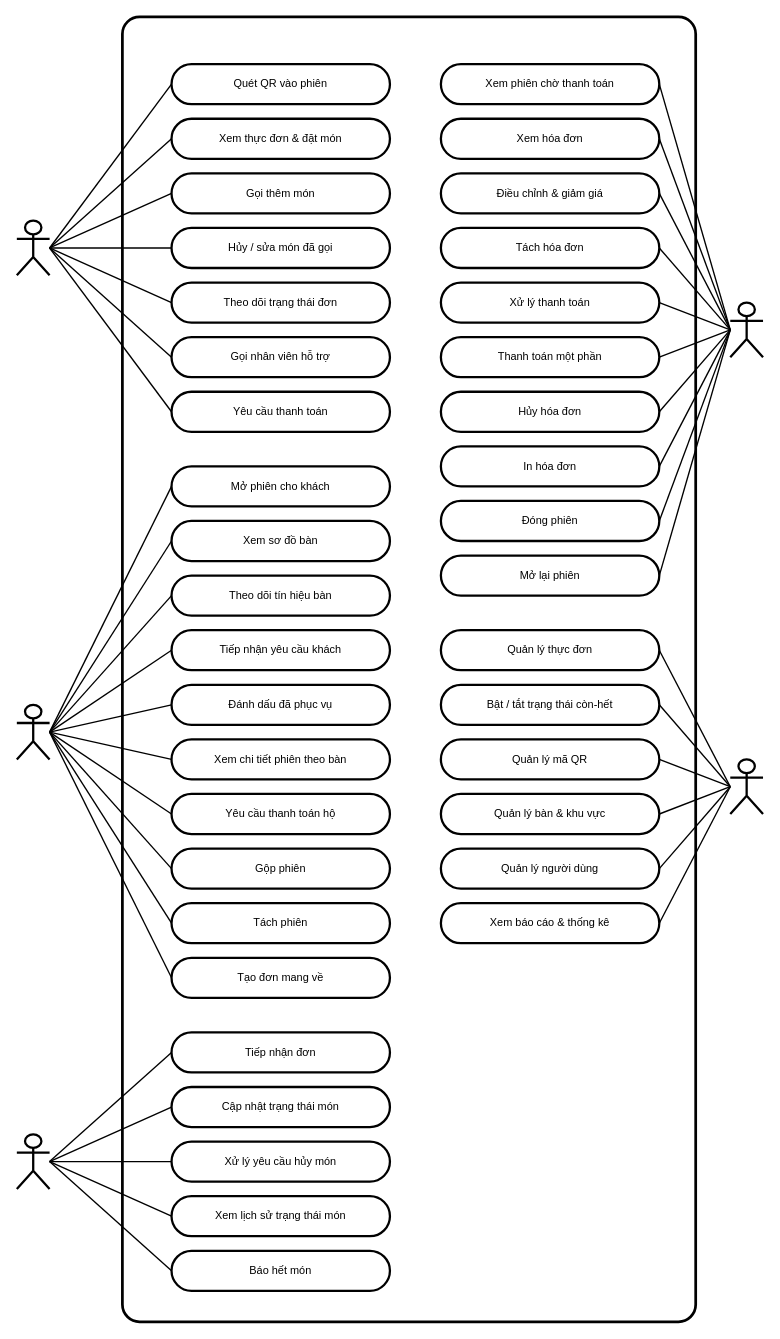
Image size: 780x1339. Some labels were removed from this diagram. The shapes that lost their labels are listed below. From the top down, each one's centre as x and y in pixels, then its label:
At (32,247): "Khách hàng".
At (746,329): "Thu ngân".
At (32,731): "Phục vụ".
At (746,786): "Quản lý".
At (32,1161): "Bếp".
